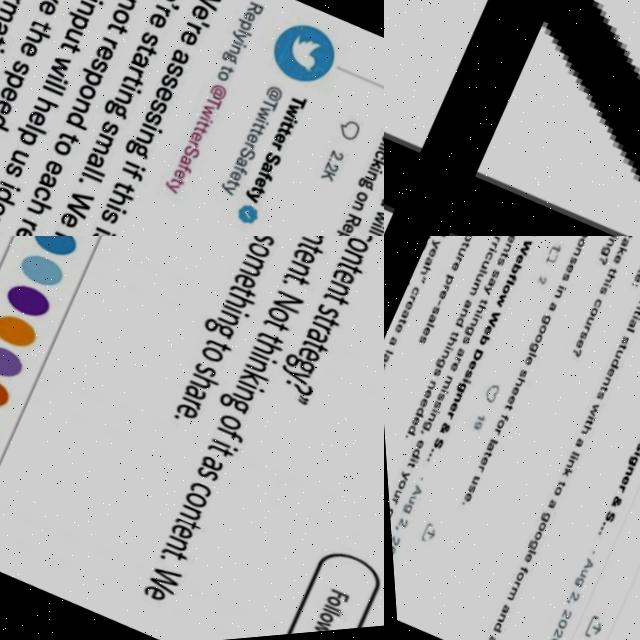2: (326, 158, 342, 172), (320, 170, 336, 184)
5: (467, 421, 478, 432)
A: (575, 560, 588, 574), (616, 240, 629, 253), (405, 484, 418, 497), (483, 277, 495, 289), (420, 255, 432, 267), (423, 312, 434, 325), (384, 333, 395, 346), (624, 321, 634, 332), (569, 440, 579, 451), (541, 501, 551, 512), (480, 442, 490, 453), (459, 299, 469, 310), (493, 605, 503, 615), (545, 303, 554, 314), (397, 308, 406, 319), (452, 348, 461, 358), (479, 635, 488, 640), (384, 351, 386, 362)
B: (507, 264, 520, 278), (474, 335, 487, 349)
C: (481, 251, 492, 264), (407, 285, 417, 296), (590, 301, 599, 311)
D: (467, 348, 481, 363), (606, 360, 619, 374), (406, 446, 419, 460), (451, 317, 463, 329), (410, 406, 422, 418), (402, 424, 414, 436), (485, 622, 496, 634), (637, 426, 640, 440)
E: (443, 400, 456, 414), (423, 246, 436, 260), (462, 359, 474, 373), (409, 438, 421, 450), (400, 299, 412, 311), (389, 322, 401, 334), (516, 553, 527, 566), (511, 255, 522, 268), (479, 324, 490, 337), (609, 257, 620, 269), (447, 261, 458, 273), (406, 414, 416, 427), (418, 325, 428, 337), (632, 435, 640, 449), (562, 266, 572, 277), (506, 387, 516, 398), (474, 456, 484, 467), (457, 492, 467, 503), (503, 236, 514, 246), (445, 362, 455, 373), (418, 388, 428, 399), (502, 396, 512, 406), (414, 397, 424, 407), (615, 479, 624, 490), (602, 370, 611, 381), (630, 276, 639, 287), (571, 341, 580, 352), (520, 357, 529, 368), (435, 290, 444, 300), (635, 294, 640, 306)
F: (494, 414, 505, 423), (512, 567, 522, 576), (505, 275, 515, 284)
G: (622, 457, 634, 471), (597, 247, 609, 261), (451, 381, 463, 395), (460, 325, 472, 339), (537, 315, 549, 327), (524, 343, 536, 355), (566, 579, 578, 591), (396, 502, 408, 514), (533, 513, 544, 525), (521, 541, 532, 553), (416, 420, 428, 431), (431, 357, 442, 369), (384, 504, 388, 518)
H: (575, 427, 587, 439), (472, 304, 484, 316), (417, 265, 429, 277), (443, 336, 454, 348), (602, 277, 613, 288), (510, 379, 521, 390)
I: (458, 378, 467, 385), (441, 345, 450, 352), (583, 418, 591, 425), (565, 457, 573, 464), (600, 285, 608, 292), (608, 237, 616, 244), (404, 457, 413, 463), (486, 248, 495, 254), (629, 455, 637, 461), (629, 319, 637, 325), (556, 288, 564, 294), (471, 314, 479, 320), (436, 389, 444, 395), (427, 409, 435, 415), (638, 264, 640, 271)
K: (556, 469, 567, 481), (614, 249, 625, 261), (633, 268, 640, 280)
L: (521, 550, 530, 557), (422, 322, 431, 329), (566, 453, 574, 460), (485, 439, 493, 446), (504, 281, 512, 288), (476, 270, 485, 276), (623, 331, 631, 337), (524, 354, 532, 360), (384, 348, 389, 354), (435, 236, 444, 238)
M: (466, 282, 478, 297), (437, 375, 449, 389), (499, 588, 510, 603)
N: (597, 378, 608, 391), (422, 379, 433, 391), (619, 469, 629, 480), (560, 460, 570, 471), (603, 240, 613, 251), (551, 291, 561, 302), (449, 393, 459, 404), (423, 412, 433, 423), (436, 349, 446, 360), (490, 613, 499, 624), (570, 249, 579, 260), (501, 244, 510, 255), (467, 318, 476, 329), (456, 308, 465, 319), (632, 304, 640, 314)
O: (573, 239, 584, 252), (490, 419, 501, 432), (391, 478, 402, 489), (498, 285, 508, 297), (547, 488, 557, 499), (531, 523, 541, 534), (508, 572, 518, 583), (534, 326, 544, 337), (530, 336, 540, 346), (527, 532, 536, 542), (586, 310, 595, 320)
P: (440, 273, 452, 285), (575, 236, 588, 243), (459, 236, 470, 243)
R: (505, 581, 514, 590), (385, 496, 394, 505), (490, 236, 499, 245), (487, 242, 496, 251), (612, 488, 620, 497), (488, 428, 497, 436), (471, 465, 479, 474), (438, 284, 447, 292), (405, 294, 413, 303), (579, 327, 587, 336), (442, 412, 450, 420), (450, 357, 458, 365), (452, 256, 460, 264)
S: (597, 513, 610, 527), (428, 436, 441, 450), (629, 445, 640, 457), (514, 369, 525, 381), (458, 369, 470, 380), (591, 393, 601, 404), (575, 332, 585, 343), (558, 274, 568, 285), (461, 484, 471, 495), (488, 269, 498, 280), (428, 400, 438, 411), (616, 339, 626, 349), (595, 289, 605, 299), (493, 258, 503, 268), (457, 336, 467, 346), (428, 367, 438, 377), (428, 305, 438, 315), (566, 258, 575, 269), (432, 392, 441, 403), (415, 334, 424, 345)
T: (579, 421, 590, 431), (477, 450, 488, 460), (497, 252, 508, 262), (445, 330, 456, 340), (614, 345, 624, 355), (605, 270, 615, 280), (499, 404, 509, 414), (476, 298, 486, 308), (401, 459, 411, 469), (395, 316, 405, 326), (458, 241, 469, 250), (551, 482, 561, 491), (621, 236, 631, 244), (630, 313, 639, 320), (595, 388, 604, 395)
U: (581, 319, 591, 330), (472, 273, 482, 284), (571, 571, 581, 582), (465, 476, 475, 486), (610, 352, 619, 363), (387, 488, 396, 499), (478, 261, 487, 272), (455, 247, 464, 258), (402, 494, 411, 505)
W: (515, 240, 531, 259), (483, 310, 499, 329), (492, 293, 504, 309), (584, 406, 595, 420)
Y: (478, 286, 490, 298), (394, 469, 406, 481), (427, 238, 439, 250)
